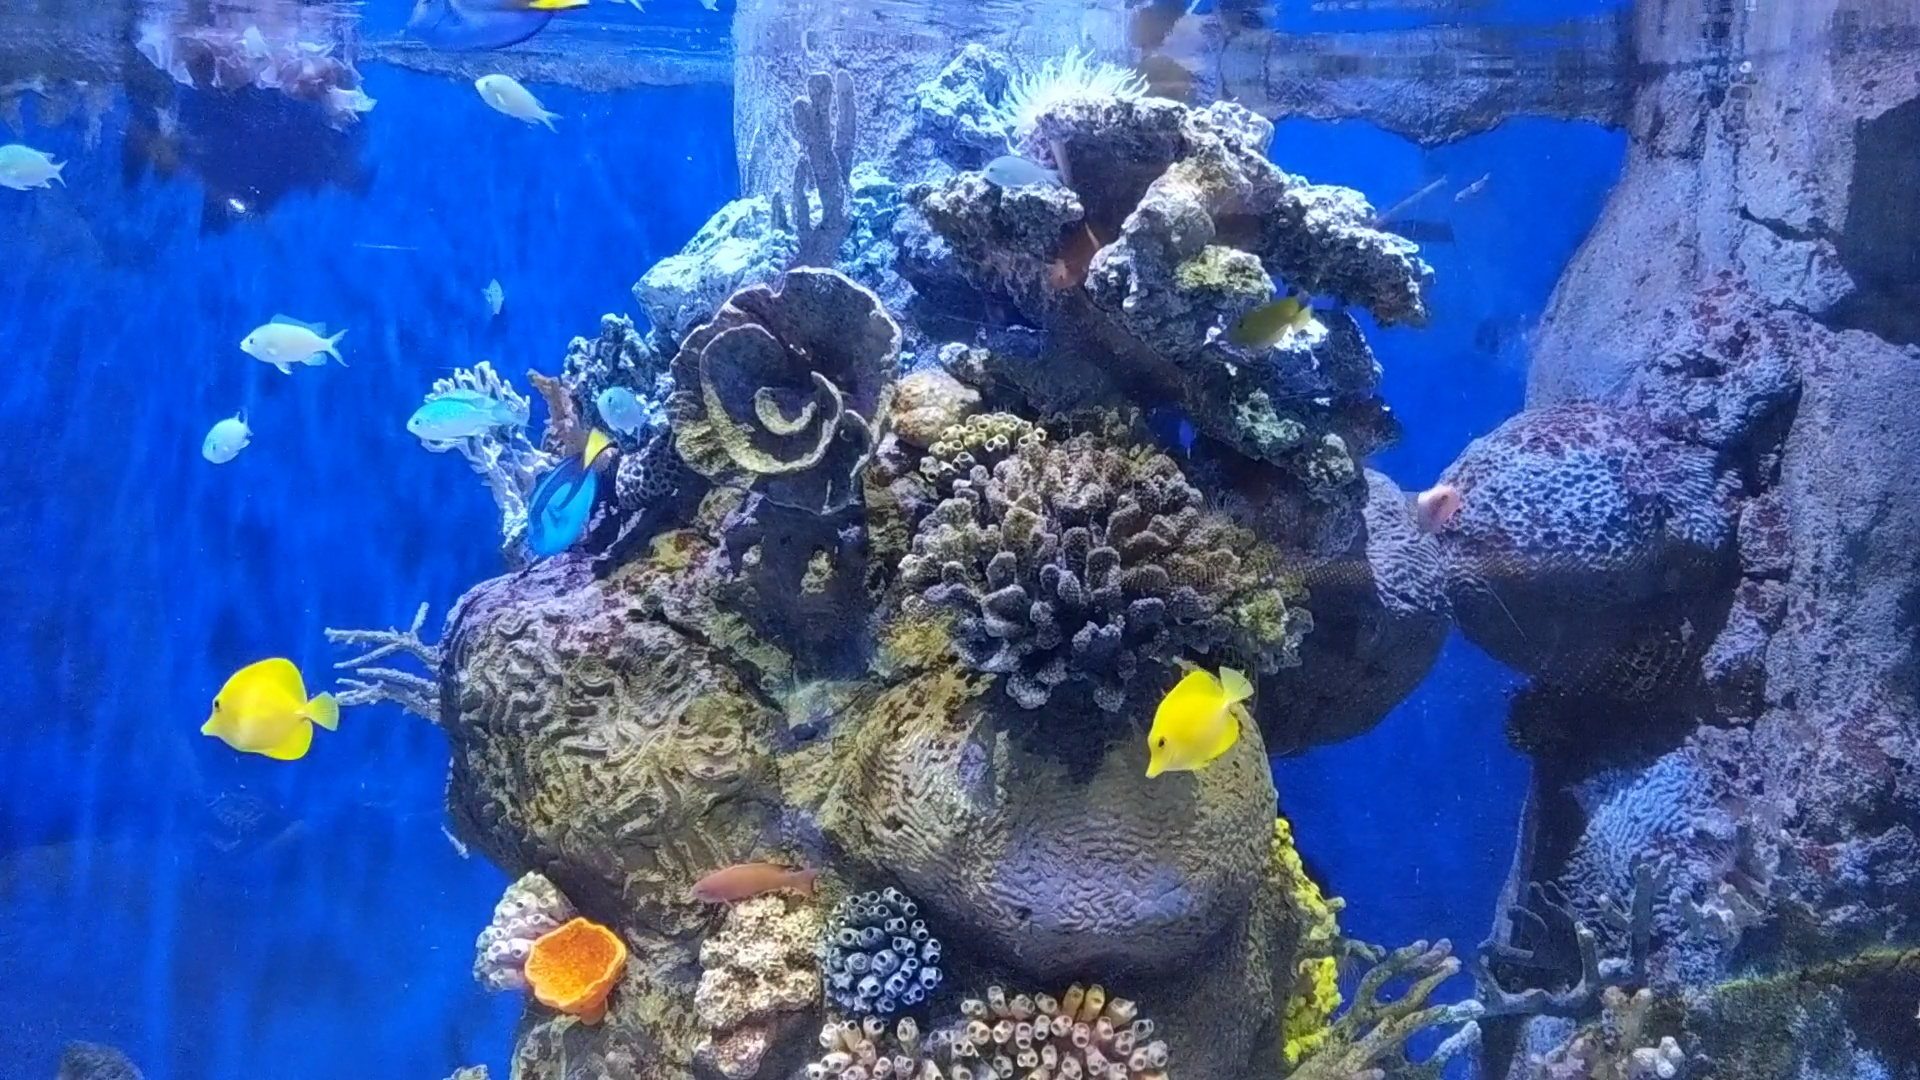blue tang surgeonfish: (518, 434, 632, 574)
damselfish: (236, 310, 356, 382), (400, 392, 514, 452), (458, 73, 556, 138), (196, 398, 266, 473), (589, 382, 654, 444)
saddle butterfly fish: (1127, 650, 1270, 786), (189, 659, 344, 774)
